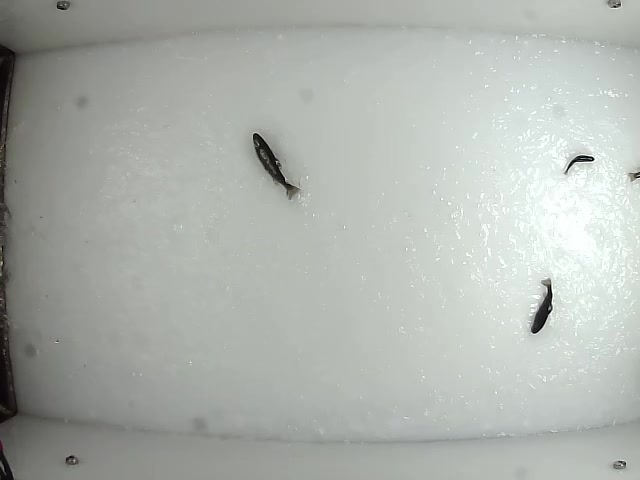fish: (249, 129, 301, 200), (531, 276, 556, 335), (562, 152, 596, 177)
